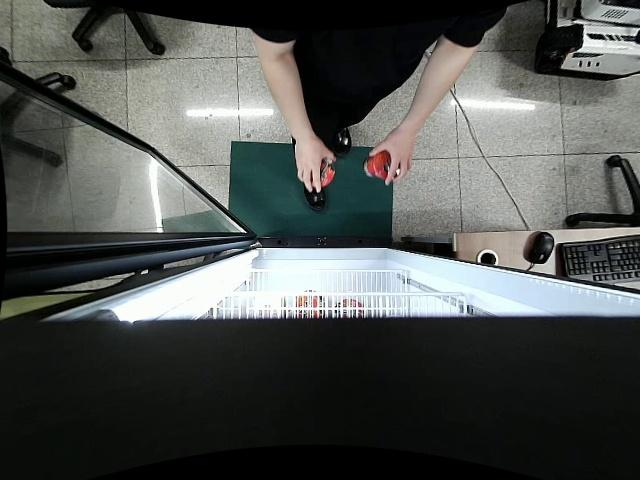00_hand: (369, 131, 414, 188), (294, 142, 336, 192)
02_shinRamen_S: (364, 151, 401, 181), (311, 158, 335, 187)
